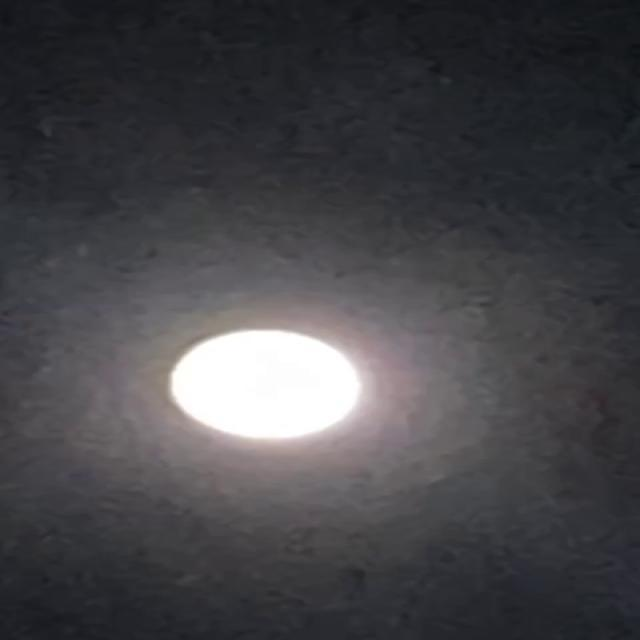moon: (130, 314, 368, 458)
